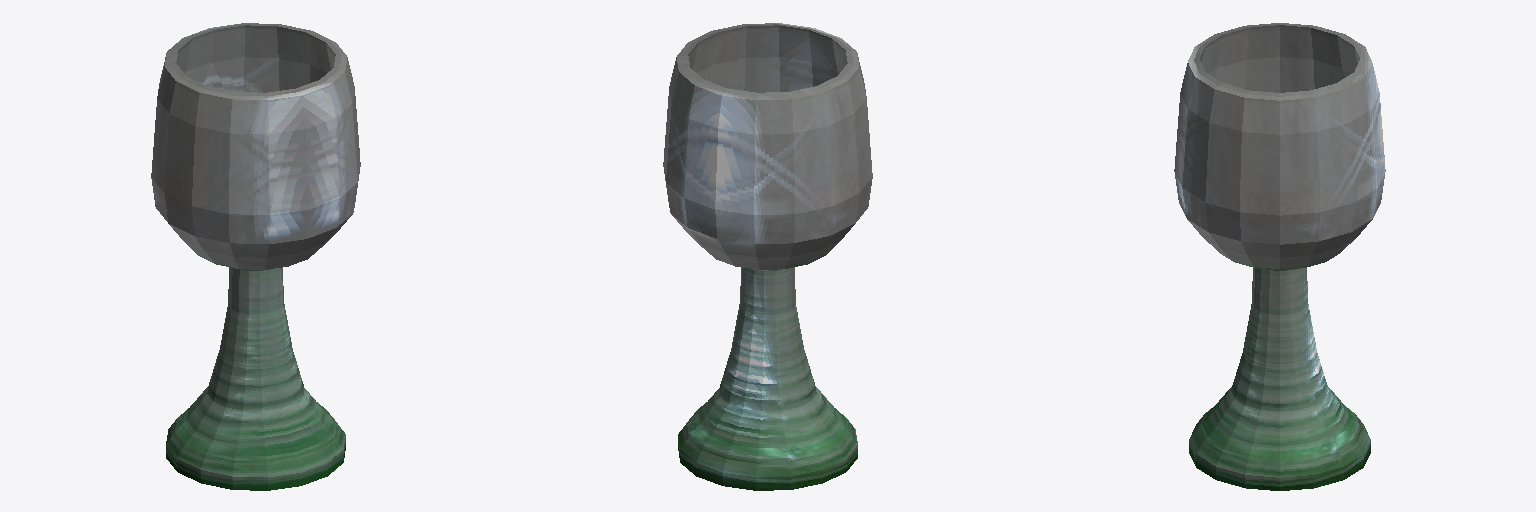
3 views of the same model, side by side, from view 1: azimuth 30°, elevation 25°; view 2: azimuth 150°, elevation 25°; view 3: azimuth 270°, elevation 25° (orthographic).
Parts seen in each view (by area): view 1: default; view 2: default; view 3: default.
Part boxes in pixels (x1,y1,x2,y2): default: (151, 23, 360, 490); default: (663, 23, 872, 490); default: (1174, 23, 1385, 490).
Size of the model in its own units: 38.61 by 79.39 by 38.61.
1 materials, 1 textured.